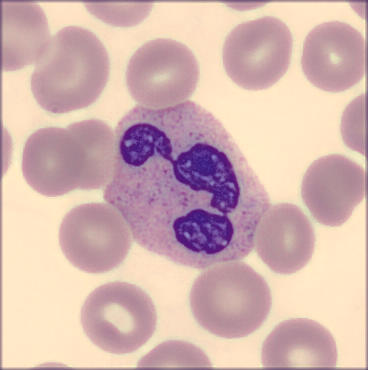WBC: (101, 96, 274, 273)
